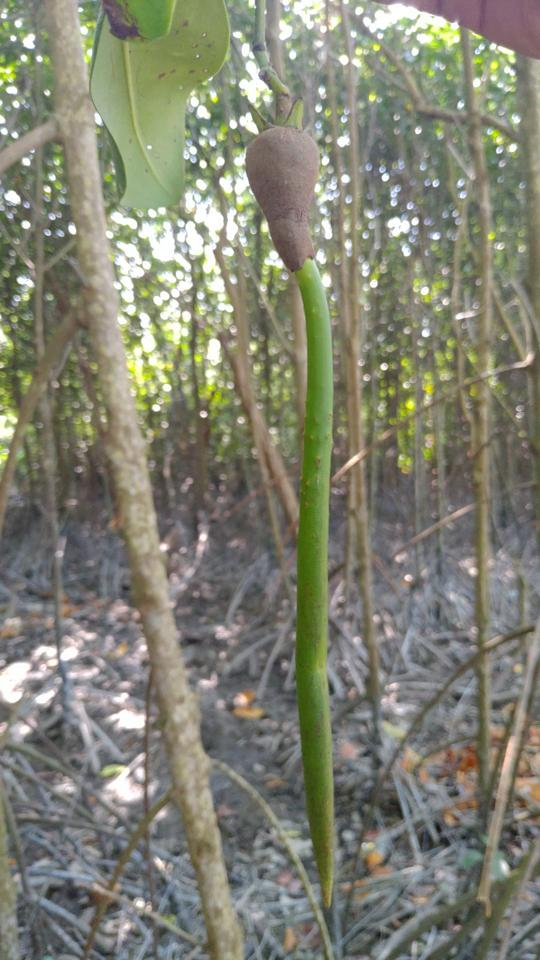mentah: (223, 89, 360, 916)
